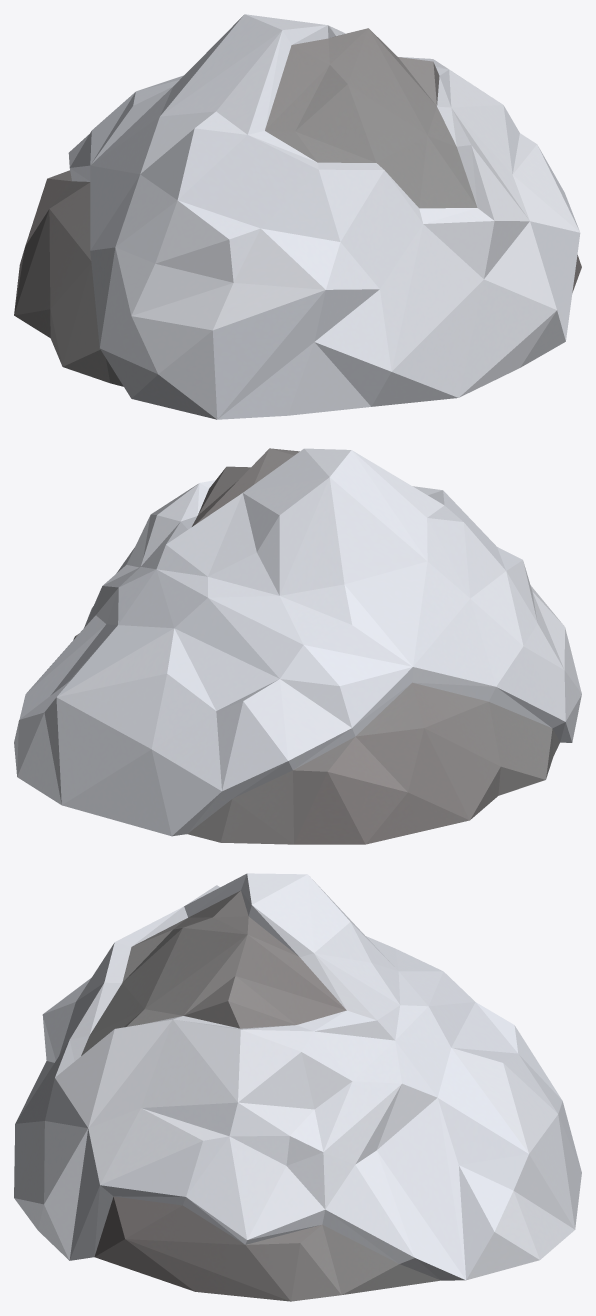
File: Rock_Big_1B.fbx
3 renders of one model, top to bottom at view 1: azimuth 30°, elevation 25°; view 2: azimuth 150°, elevation 25°; view 3: azimuth 270°, elevation 25°, orthographic. The views are drawn at different scales.
Visible parts, largest first — view 1: Group64620; view 2: Group64620; view 3: Group64620.
Boxes of the visible parts, <box> form: Group64620: <box>14,14,581,419</box>; Group64620: <box>14,448,581,844</box>; Group64620: <box>14,873,581,1301</box>.
Size of the model in its own units: 7.58 by 4.35 by 7.57.
Materials: 1 (1 with a texture image).
